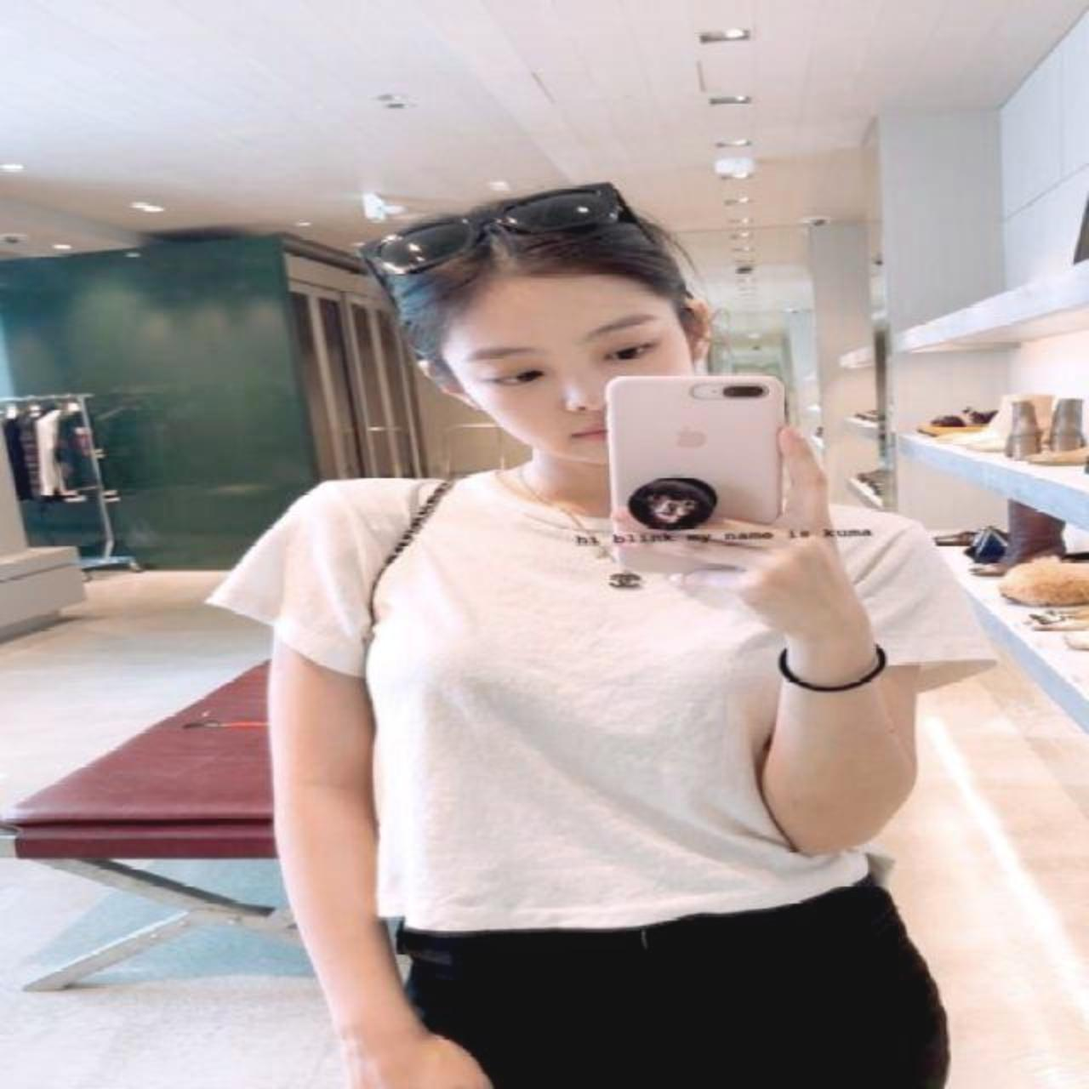phone: (604, 369, 800, 582)
